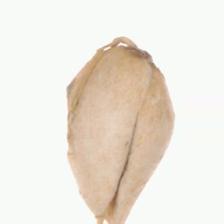L1: (99, 36, 159, 70), (90, 203, 127, 224)
L2: (66, 38, 176, 224)
